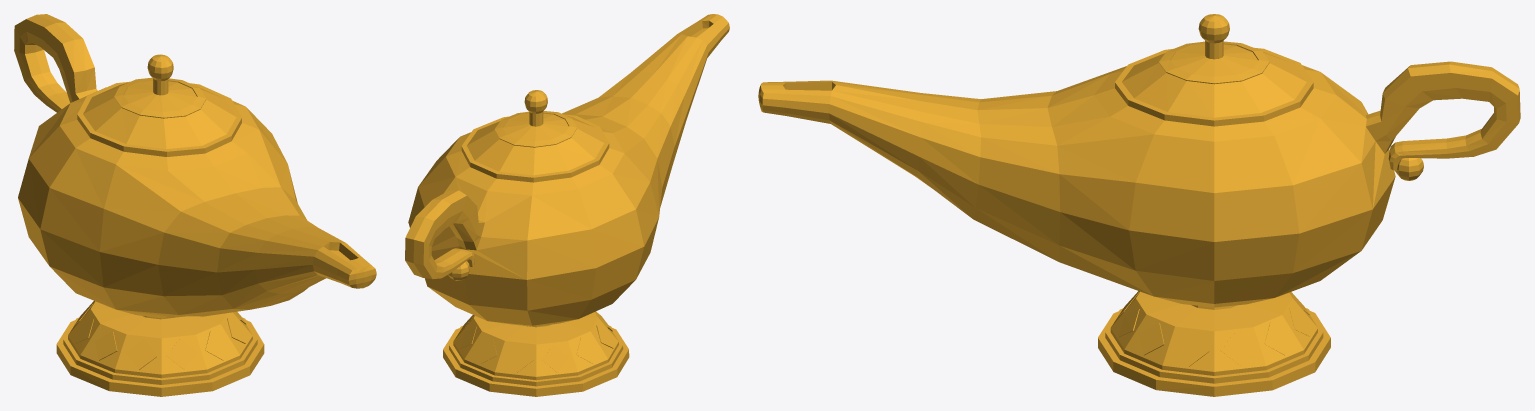
File: 5UEm2WWSmjo.glb
The picture shows the model from 3 angles, left to right: view 1: azimuth 30°, elevation 25°; view 2: azimuth 150°, elevation 25°; view 3: azimuth 270°, elevation 25°; orthographic projection. The views are drawn at different scales.
Parts seen in each view (by area): view 1: Node; view 2: Node; view 3: Node.
Part boxes in pixels (<box>): Node: <box>14,14,376,396</box>; Node: <box>405,14,729,396</box>; Node: <box>758,14,1520,396</box>.
Bounding box in the file's own units: 0.8493 × 0.9999 × 2.08.
